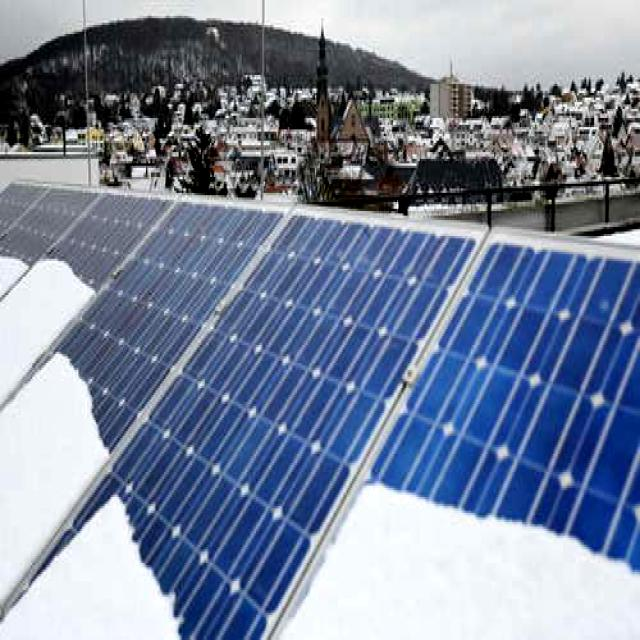panel: (452, 476, 640, 640), (8, 506, 194, 640), (282, 483, 432, 640), (0, 361, 112, 492), (0, 247, 103, 350)
